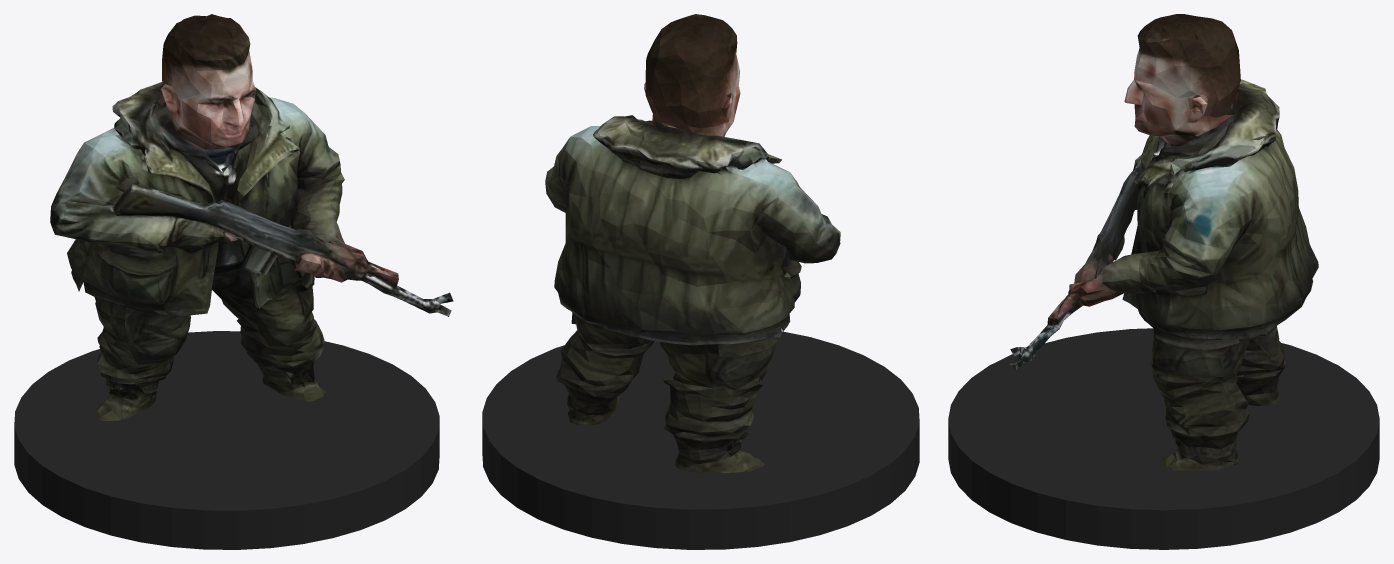
File: thomas-heart.glb
3 views of the same model, side by side, from view 1: azimuth 30°, elevation 25°; view 2: azimuth 150°, elevation 25°; view 3: azimuth 270°, elevation 25° (orthographic). The views are drawn at different scales.
Parts seen in each view (by area): view 1: figure, base; view 2: figure, base; view 3: figure, base.
Part boxes in pixels (bbox=[...]): figure: bbox=[50, 14, 453, 421]; base: bbox=[14, 331, 439, 549]; figure: bbox=[545, 14, 840, 472]; base: bbox=[482, 331, 919, 549]; figure: bbox=[1009, 14, 1318, 470]; base: bbox=[948, 328, 1379, 549].
Size of the model in its own units: 1.18 by 1.32 by 1.18.
Materials: 2 (1 with a texture image).
